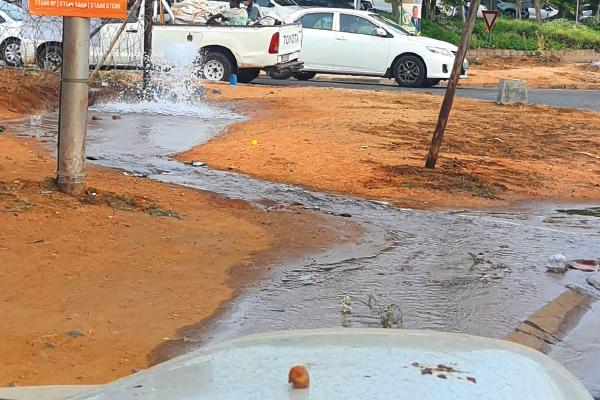water_leak: (366, 211, 600, 348), (97, 52, 252, 176)
